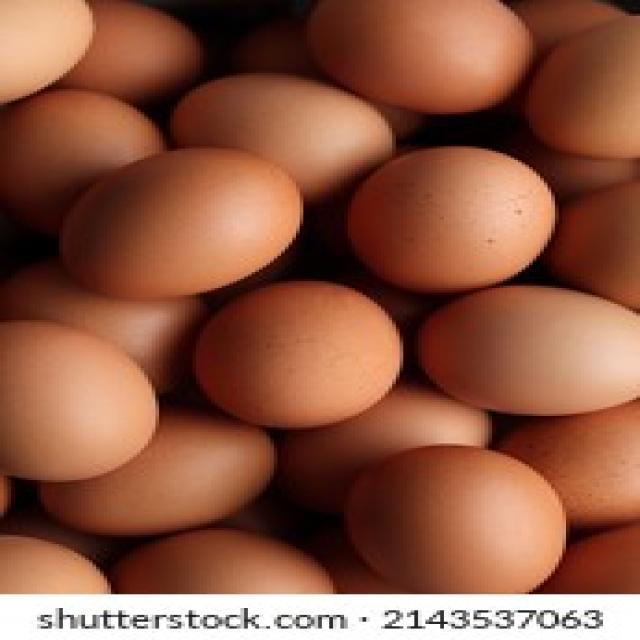Brown Egg: (58, 138, 301, 284), (188, 288, 404, 432), (354, 442, 558, 594), (332, 143, 547, 285), (32, 408, 271, 534), (413, 282, 637, 413), (0, 87, 163, 265), (166, 70, 400, 187), (2, 318, 160, 483), (306, 0, 531, 115), (272, 392, 496, 502), (524, 13, 640, 167), (509, 405, 640, 525), (114, 536, 336, 598), (546, 184, 640, 310), (0, 0, 100, 114)
